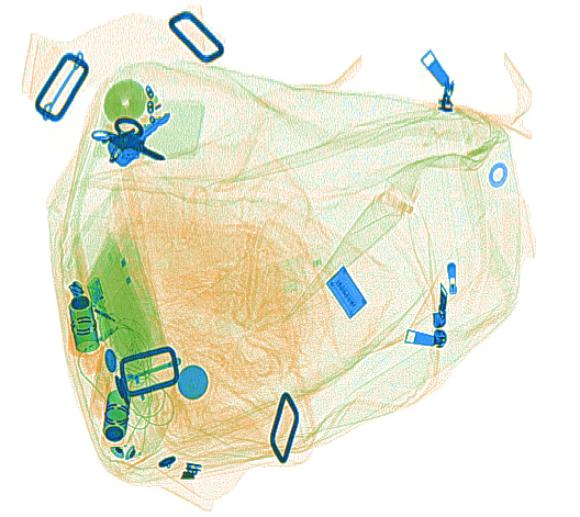USBFlashDisk: (84, 275, 122, 343)
